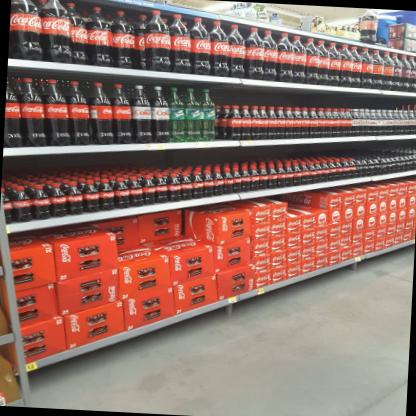empty_space: (168, 0, 230, 14), (281, 13, 303, 28)
